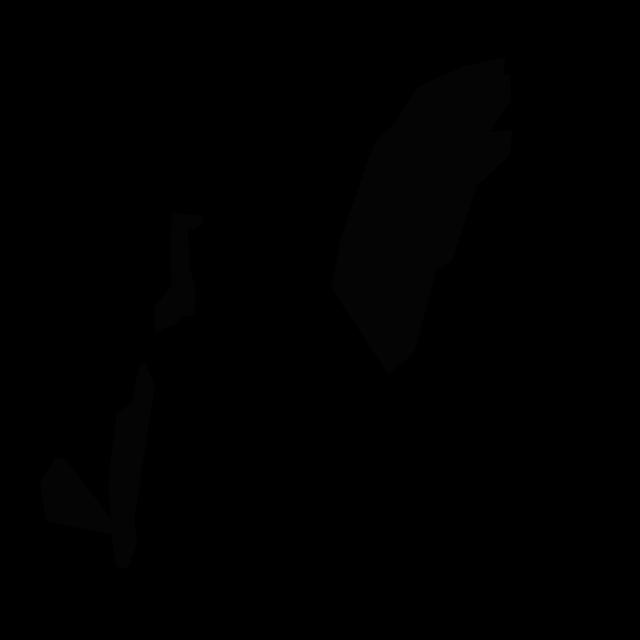soft_plastic: (332, 111, 476, 374), (40, 363, 155, 569), (396, 57, 512, 186), (154, 213, 203, 332)
